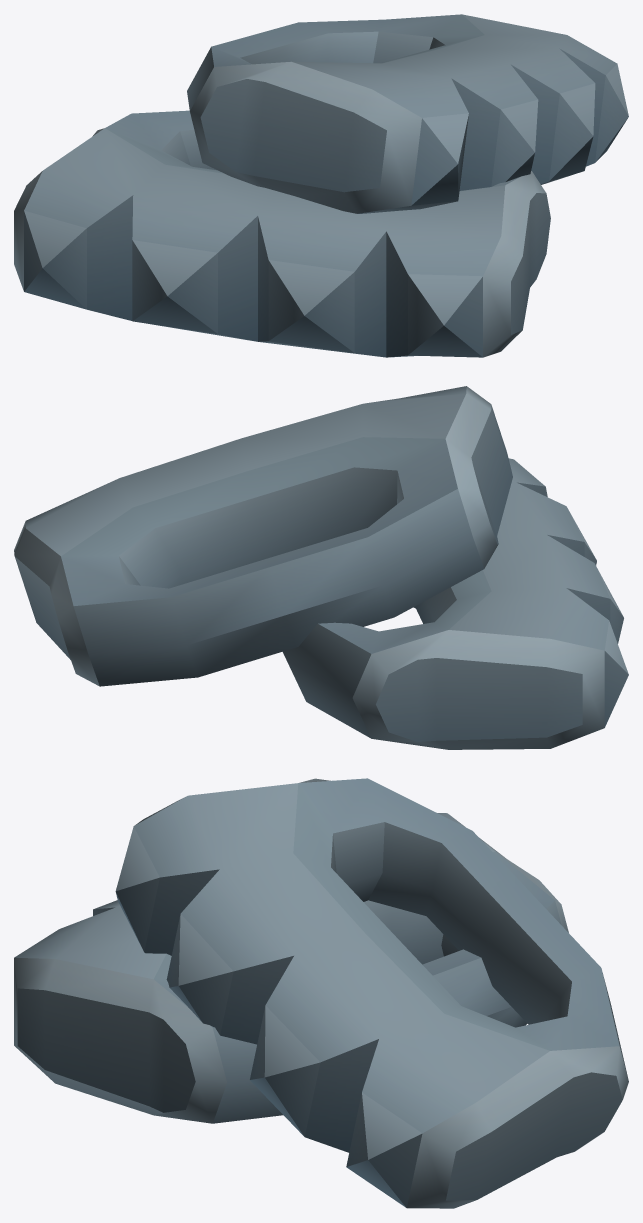
File: fistweapon_A_stacked.glb
3 views of the same model, one above another, from view 1: azimuth 30°, elevation 25°; view 2: azimuth 150°, elevation 25°; view 3: azimuth 270°, elevation 25° (orthographic). The views are drawn at different scales.
Visible parts, largest first — view 1: fistweapon_A_stacked; view 2: fistweapon_A_stacked; view 3: fistweapon_A_stacked.
Boxes of the visible parts, x1=… form: fistweapon_A_stacked: x1=14, y1=14, x2=628, y2=357; fistweapon_A_stacked: x1=14, y1=386, x2=628, y2=749; fistweapon_A_stacked: x1=14, y1=778, x2=628, y2=1208.
Bounding box in the file's own units: 0.43 × 0.1627 × 0.3512.
Materials: 1 (1 with a texture image).
